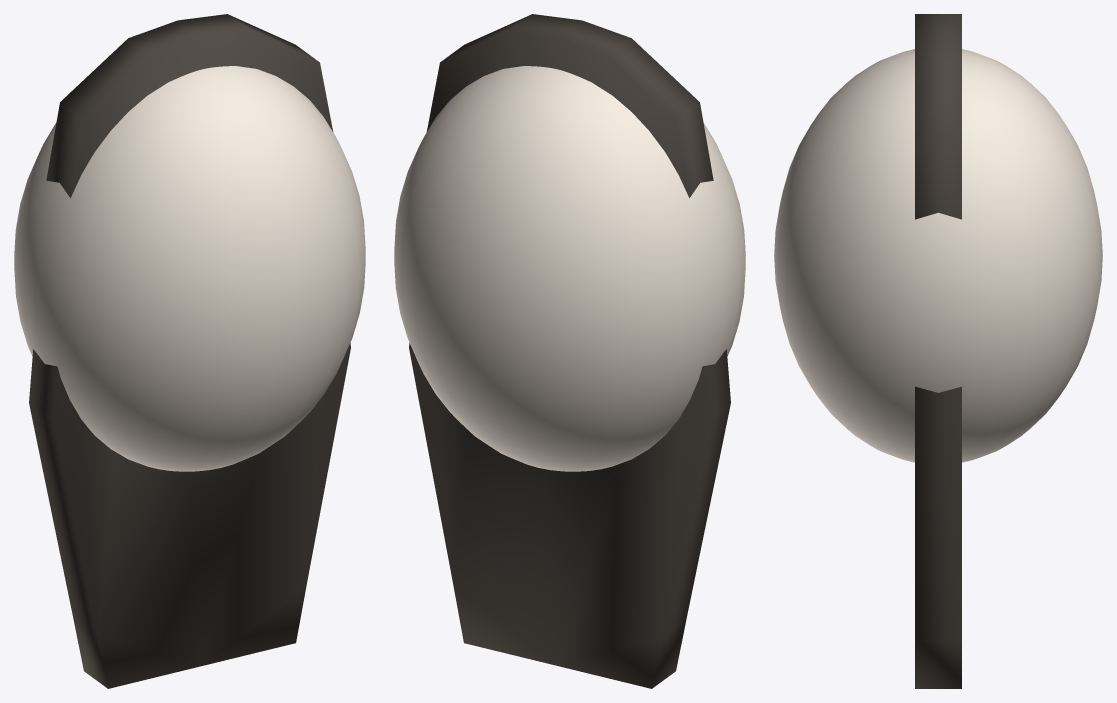
The model's file is hair_long_classic.glb.
The picture shows the model from 3 angles, left to right: view 1: azimuth 30°, elevation 25°; view 2: azimuth 150°, elevation 25°; view 3: azimuth 270°, elevation 25°; orthographic projection. The views are drawn at different scales.
Visible parts, largest first — view 1: Head, Hair_long_classic; view 2: Head, Hair_long_classic; view 3: Head, Hair_long_classic.
Part boxes in pixels (left/top/right/bottom): Head: left=14, top=66, right=365, bottom=471; Hair_long_classic: left=29, top=14, right=350, bottom=688; Head: left=394, top=66, right=745, bottom=471; Hair_long_classic: left=409, top=14, right=730, bottom=688; Head: left=774, top=49, right=1102, bottom=462; Hair_long_classic: left=915, top=14, right=961, bottom=688.
Bounding box in the file's own units: 1.7 × 3.29 × 1.6.
